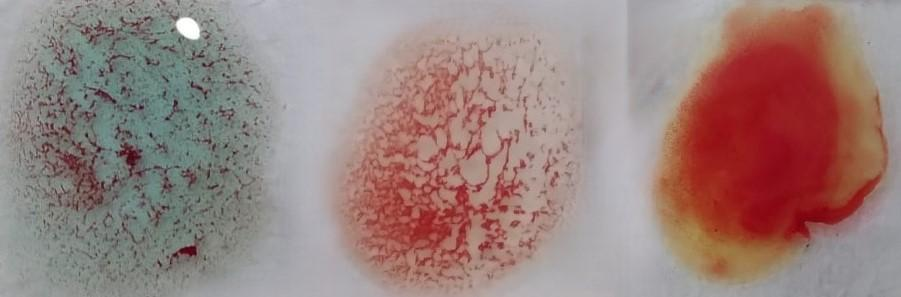A: (17, 0, 260, 295)
D: (351, 27, 585, 294)
